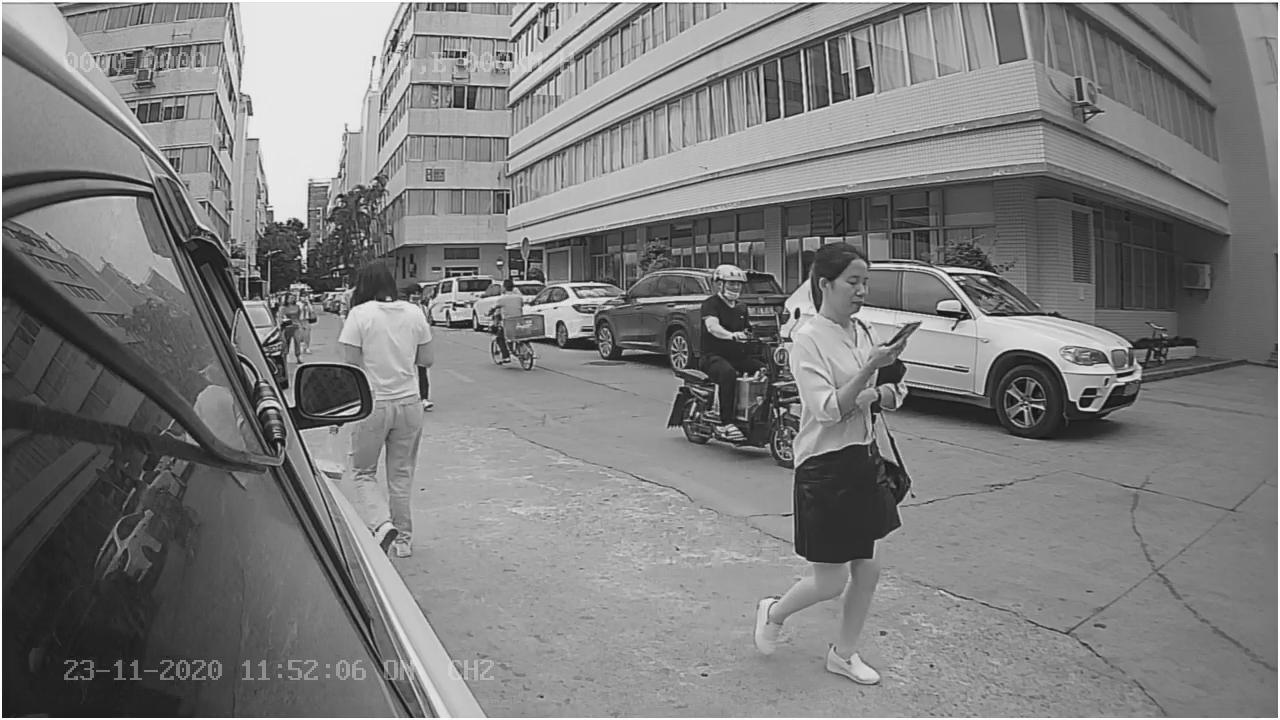person: (752, 239, 915, 683), (335, 257, 433, 369)
